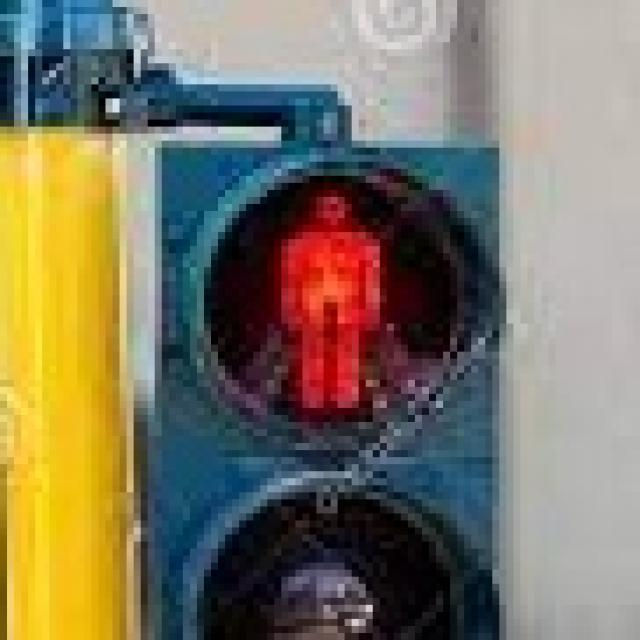red-crossing: (246, 155, 394, 415)
